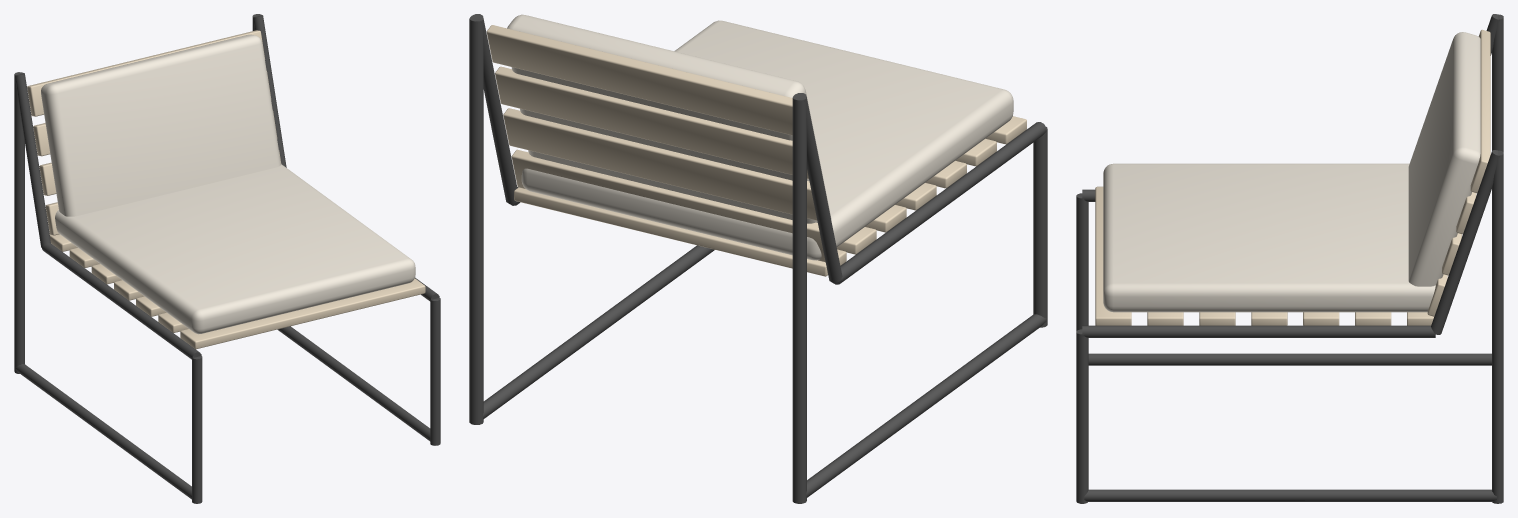
The model's file is mo_lounge_outdoor.glb.
3 views of the same model, side by side, from view 1: azimuth 30°, elevation 25°; view 2: azimuth 150°, elevation 25°; view 3: azimuth 270°, elevation 25° (orthographic). The views are drawn at different scales.
Visible parts, largest first — view 1: cushion, backcush, slat0, rear, runner, seatrail, runner.001, backrail, front, front.001, bslat3, backrail.001; view 2: cushion, bslat3, backcush, bslat2, bslat1, rear, rear.001, bslat0, runner, slat6, runner.001, seatrail (+4 smaller); view 3: cushion, backcush, runner.001, runner, seatrail.001, rear.001, backrail.001, front.001, bslat3, front, slat0, rear (+5 smaller).
Boxes of the visible parts, box(x1,y1,x2,y2) form: cushion: box(55, 164, 415, 334); backcush: box(41, 34, 280, 216); slat0: box(180, 278, 425, 349); rear: box(14, 72, 24, 373); runner: box(15, 364, 192, 499); seatrail: box(42, 243, 201, 359); runner.001: box(277, 326, 430, 441); backrail: box(14, 73, 50, 247); front: box(192, 356, 202, 503); front.001: box(430, 298, 440, 445); bslat3: box(27, 30, 265, 116); backrail.001: box(252, 15, 286, 167); cushion: box(521, 20, 1013, 260); bslat3: box(486, 25, 792, 135); backcush: box(507, 14, 831, 223); bslat2: box(495, 66, 808, 178); bslat1: box(503, 108, 817, 220); rear: box(792, 96, 806, 503); rear.001: box(469, 17, 483, 424); bslat0: box(511, 149, 825, 262); runner: box(806, 314, 1046, 497); slat6: box(514, 187, 846, 276); runner.001: box(483, 245, 714, 418); seatrail: box(833, 122, 1046, 284); cushion: box(1103, 163, 1435, 312); backcush: box(1408, 32, 1480, 286); runner.001: box(1084, 489, 1496, 501); runner: box(1088, 353, 1491, 365); seatrail.001: box(1082, 325, 1435, 337); rear.001: box(1492, 150, 1503, 503); backrail.001: box(1431, 150, 1499, 334); front.001: box(1076, 329, 1088, 503); bslat3: box(1470, 29, 1490, 193); front: box(1076, 193, 1088, 331); slat0: box(1095, 186, 1131, 325); rear: box(1492, 14, 1503, 151).
Size of the model in its own units: 0.644 by 0.7436 by 0.8234.
